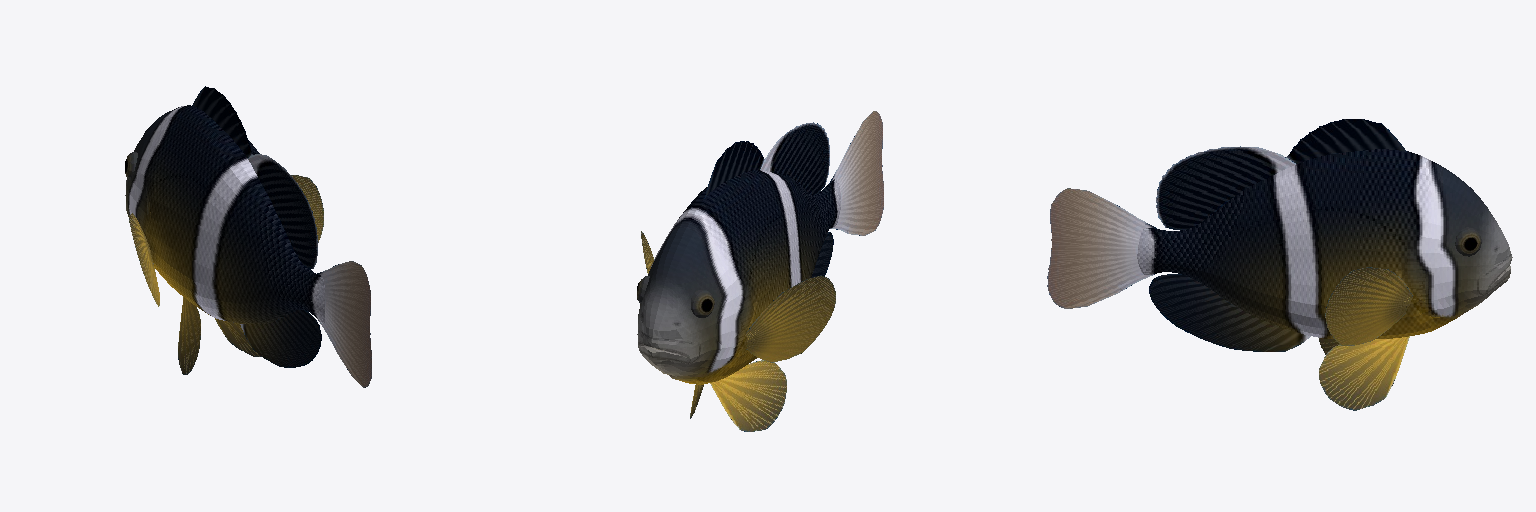
3 renders of one model, left to right at view 1: azimuth 30°, elevation 25°; view 2: azimuth 150°, elevation 25°; view 3: azimuth 270°, elevation 25°, orthographic.
Parts seen in each view (by area): view 1: Object_KumanoT.jpg; view 2: Object_KumanoT.jpg; view 3: Object_KumanoT.jpg.
Part boxes in pixels (bbox=[...]): Object_KumanoT.jpg: bbox=[125, 86, 371, 387]; Object_KumanoT.jpg: bbox=[637, 111, 883, 431]; Object_KumanoT.jpg: bbox=[1047, 119, 1512, 410].
Size of the model in its own units: 1.16 by 1.63 by 2.5.
Materials: 2 (1 with a texture image).